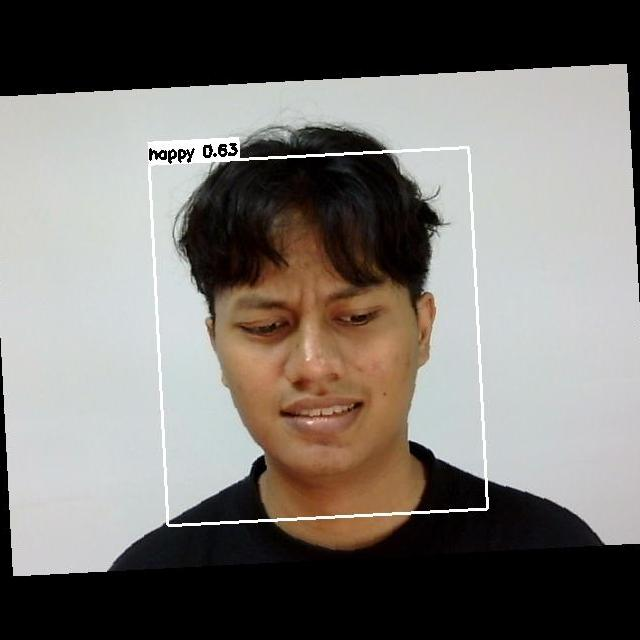Disgust: (212, 268, 423, 461)
